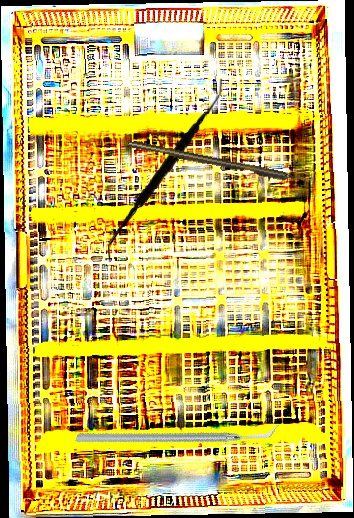Chopper: (74, 353, 280, 514)
Hook Surgical: (127, 138, 316, 188)
Spatula Surgical: (107, 73, 225, 268)
